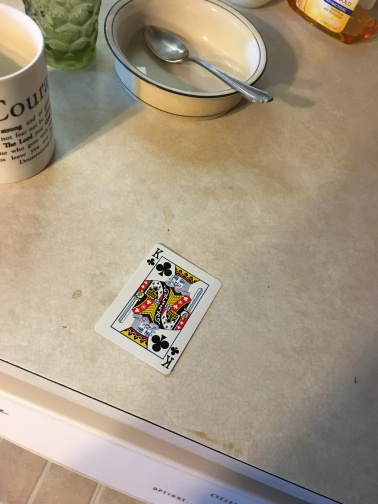king: (95, 243, 222, 374)
